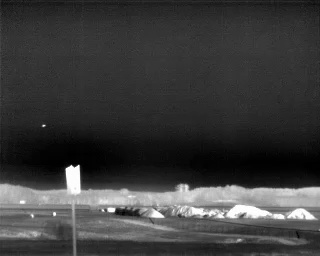BIRD: (40, 122, 48, 130)
